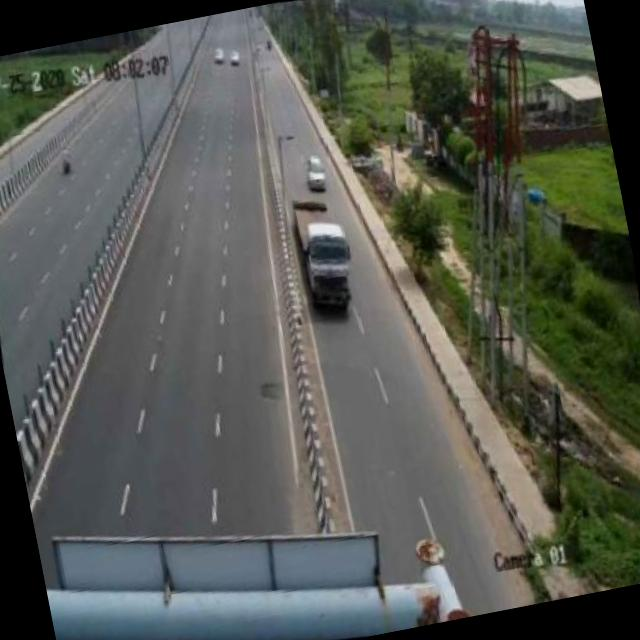car: (300, 148, 335, 195)
